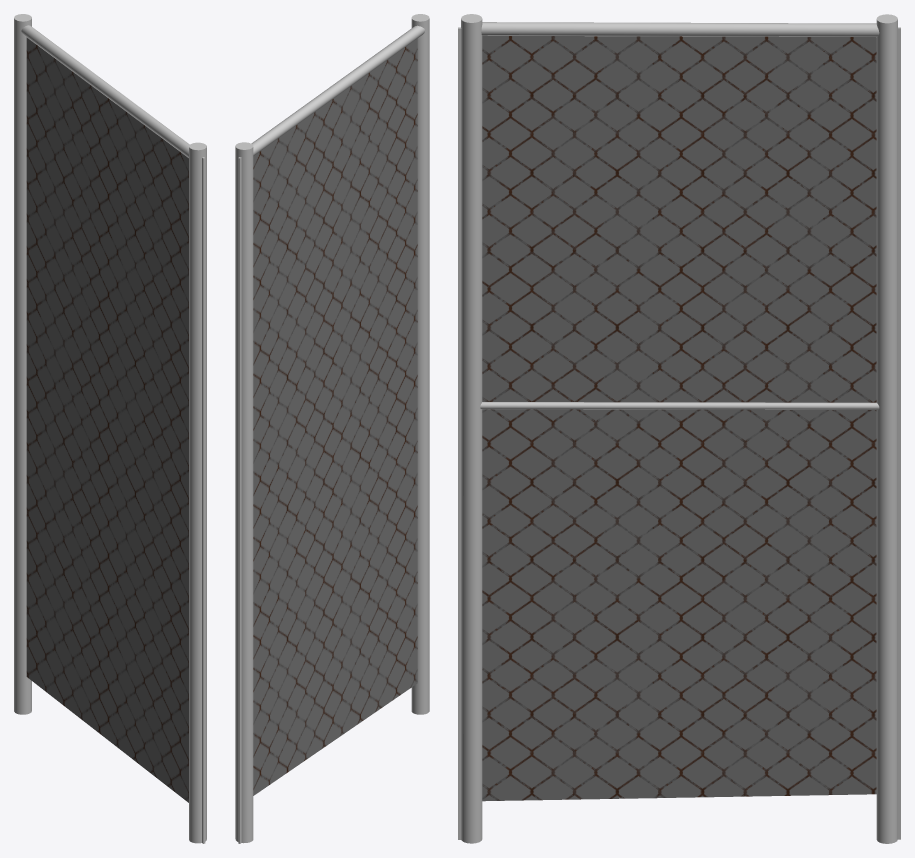
File: SM_WireFence_D.fbx
3 renders of one model, left to right at view 1: azimuth 30°, elevation 25°; view 2: azimuth 150°, elevation 25°; view 3: azimuth 270°, elevation 25°, orthographic. The views are drawn at different scales.
Parts seen in each view (by area): view 1: SM_WireFence_D_LOD0; view 2: SM_WireFence_D_LOD0; view 3: SM_WireFence_D_LOD0.
Boxes of the visible parts, bbox=[...] form: SM_WireFence_D_LOD0: bbox=[14, 14, 206, 843]; SM_WireFence_D_LOD0: bbox=[235, 14, 429, 843]; SM_WireFence_D_LOD0: bbox=[458, 14, 900, 843].
Bounding box in the file's own units: 7.51 × 150 × 307.
Materials: 2 (1 with a texture image).
